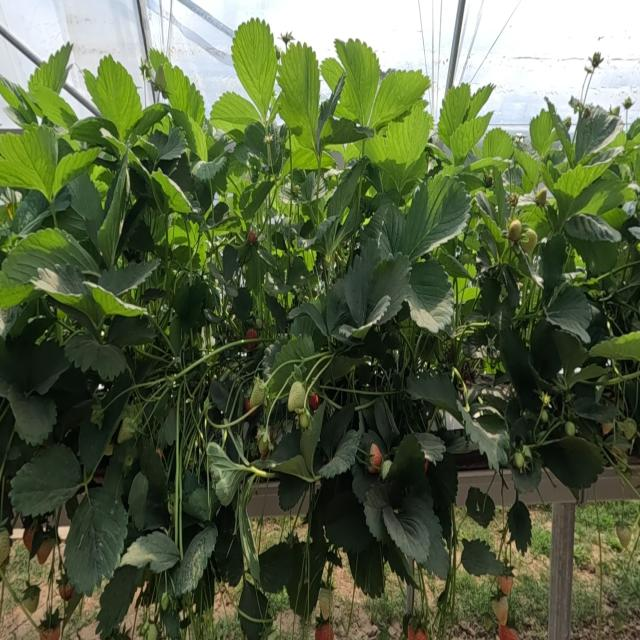Flowers: (281, 31, 294, 47), (541, 392, 550, 406), (264, 135, 272, 144)
Leaves: (65, 488, 127, 596), (392, 176, 470, 260), (548, 148, 624, 230), (10, 444, 82, 516), (3, 229, 99, 283), (401, 471, 449, 579), (78, 377, 131, 472), (383, 103, 433, 195), (268, 335, 332, 404), (232, 20, 277, 118), (320, 475, 376, 553), (0, 127, 56, 199), (278, 41, 320, 135), (335, 39, 380, 124), (369, 70, 430, 130), (99, 56, 141, 139), (406, 260, 453, 333), (98, 156, 129, 264), (499, 327, 539, 409), (540, 437, 603, 489), (96, 566, 139, 639), (173, 525, 217, 595), (4, 386, 57, 443), (11, 187, 71, 237), (384, 434, 425, 507), (345, 241, 379, 326), (462, 409, 509, 470), (544, 282, 591, 343), (65, 334, 127, 380), (371, 254, 411, 324), (383, 506, 430, 564), (163, 62, 205, 125), (207, 442, 249, 505), (406, 372, 461, 418), (575, 106, 621, 161), (119, 531, 179, 573), (69, 173, 104, 245), (361, 204, 405, 260), (328, 159, 368, 218), (52, 148, 100, 197), (28, 42, 72, 94), (98, 260, 159, 296), (573, 175, 626, 215), (316, 430, 360, 478), (259, 543, 300, 593), (210, 92, 261, 132), (238, 580, 272, 639), (438, 84, 471, 144), (30, 85, 76, 128), (139, 437, 166, 510), (449, 114, 491, 160), (173, 280, 208, 334), (320, 403, 354, 457), (30, 265, 89, 296), (91, 283, 146, 316), (172, 108, 207, 159), (152, 169, 192, 213), (540, 234, 567, 299), (300, 404, 325, 473), (461, 539, 507, 576), (363, 484, 393, 540), (565, 214, 621, 242), (326, 279, 354, 334), (554, 330, 586, 378), (589, 331, 640, 361), (507, 499, 532, 554), (70, 118, 119, 146), (475, 191, 502, 240), (530, 110, 557, 158), (131, 104, 168, 137), (290, 303, 328, 335), (573, 395, 615, 422), (129, 472, 148, 529), (514, 148, 539, 191), (157, 127, 187, 161), (271, 429, 300, 463), (467, 84, 494, 120), (482, 128, 513, 159), (191, 155, 227, 181), (415, 433, 446, 463), (480, 277, 501, 315), (493, 169, 506, 229), (264, 273, 289, 296), (223, 245, 238, 279), (150, 49, 169, 72), (208, 263, 225, 284), (258, 248, 277, 266), (225, 281, 238, 297)
Strawberries: (117, 405, 141, 443), (21, 581, 40, 615), (288, 381, 306, 414), (249, 378, 266, 408), (318, 588, 333, 621), (520, 228, 537, 255), (0, 527, 11, 568), (493, 595, 508, 625), (257, 426, 271, 458), (315, 616, 334, 639), (369, 443, 383, 473), (37, 540, 54, 564), (139, 58, 155, 83), (155, 64, 167, 96), (407, 622, 427, 639), (497, 575, 513, 596), (621, 419, 637, 440), (508, 219, 522, 242), (59, 581, 74, 601), (40, 625, 61, 639), (498, 625, 518, 639), (298, 408, 310, 431), (23, 529, 34, 552), (380, 459, 392, 480), (591, 52, 604, 70), (513, 452, 525, 471), (535, 187, 547, 206), (160, 591, 171, 611), (308, 393, 319, 411), (565, 421, 576, 436), (147, 623, 157, 639), (247, 229, 257, 244), (246, 328, 258, 340), (539, 408, 548, 423), (484, 173, 493, 188), (602, 423, 613, 435), (623, 97, 633, 110), (247, 342, 257, 352), (292, 184, 299, 196)
